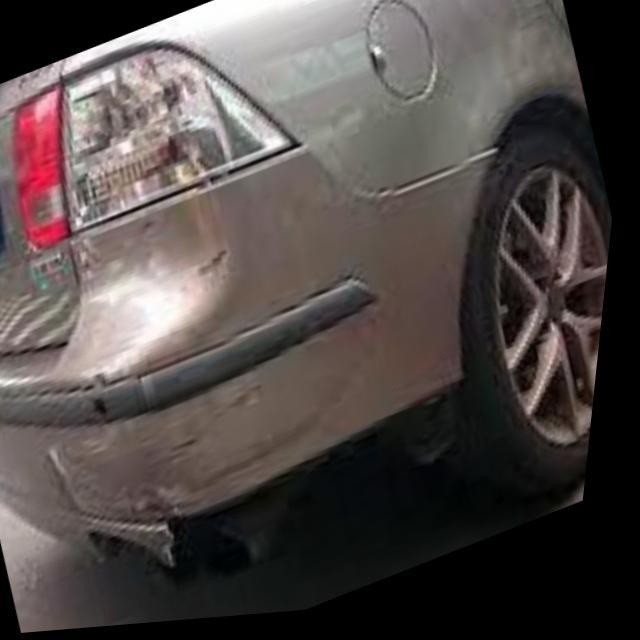crack: (34, 215, 311, 569)
